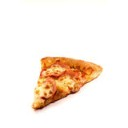pepperonipizza: (32, 57, 106, 111)
